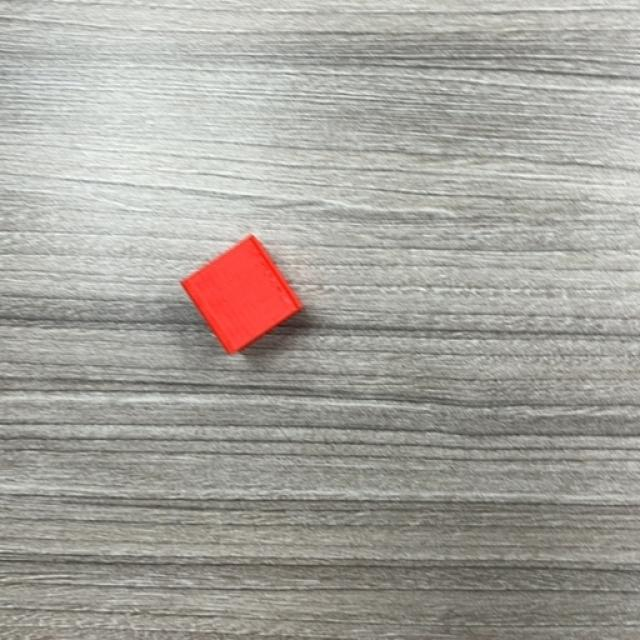Rojo: (179, 235, 305, 355)
